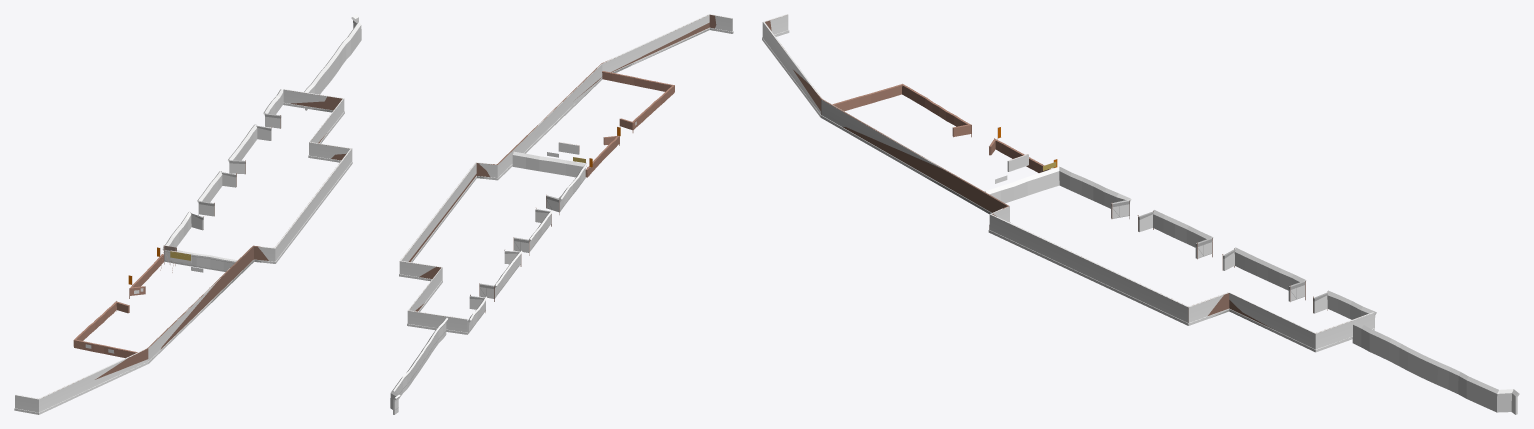
Rendered from industrial1_fencing.dae.
The picture shows the model from 3 angles, left to right: view 1: azimuth 30°, elevation 25°; view 2: azimuth 210°, elevation 25°; view 3: azimuth 270°, elevation 25°; orthographic projection. The views are drawn at different scales.
Visible parts, largest first — view 1: industrial1_fencing_a4000, Colmesh-1, industrial1_fencing_a1000; view 2: industrial1_fencing_a4000, Colmesh-1, industrial1_fencing_a1000; view 3: Colmesh-1, industrial1_fencing_a4000, industrial1_fencing_a1000.
Boxes of the visible parts, x1,y1,x2,y2 form: industrial1_fencing_a4000: [14, 19, 356, 414]; Colmesh-1: [74, 14, 361, 352]; industrial1_fencing_a1000: [43, 91, 348, 404]; industrial1_fencing_a4000: [394, 14, 733, 410]; Colmesh-1: [390, 71, 674, 414]; industrial1_fencing_a1000: [399, 14, 721, 330]; Colmesh-1: [832, 84, 1519, 414]; industrial1_fencing_a4000: [762, 14, 1374, 352]; industrial1_fencing_a1000: [765, 20, 1352, 345].
Bounding box in the file's own units: 155 × 131 × 6.33.
